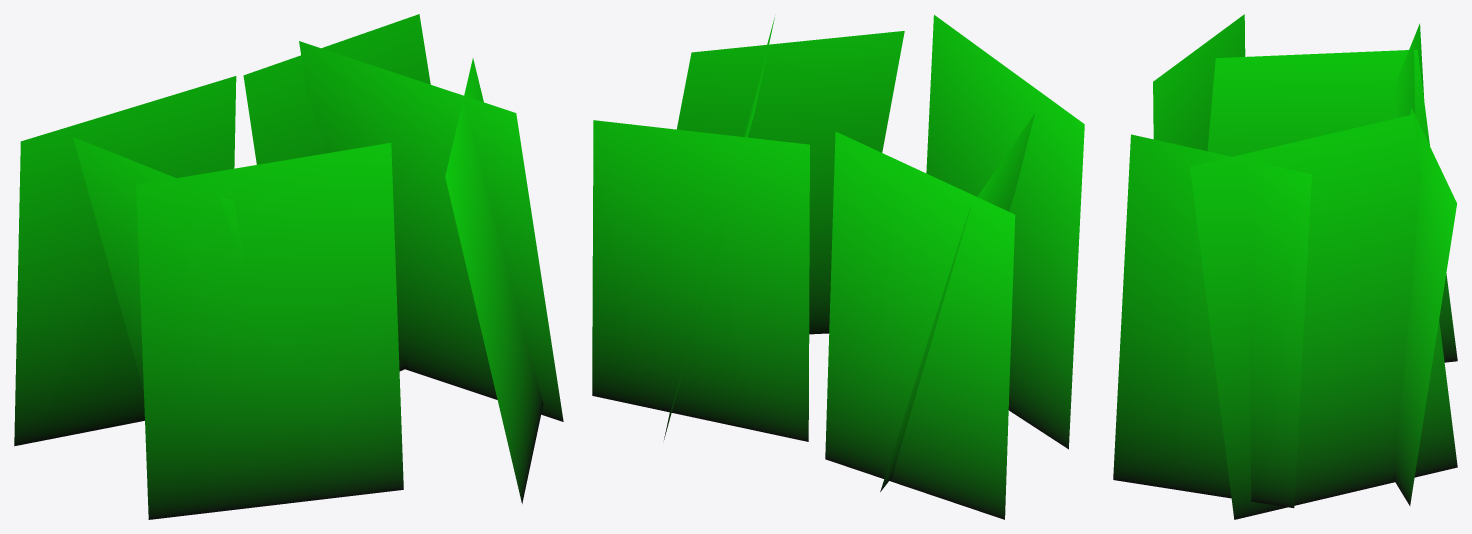
Rendered from SM_Dandilion.fbx.
3 views of the same model, side by side, from view 1: azimuth 30°, elevation 25°; view 2: azimuth 150°, elevation 25°; view 3: azimuth 270°, elevation 25° (orthographic). The views are drawn at different scales.
Parts seen in each view (by area): view 1: IL3DN_Plant_Grass_02_LOD0.001; view 2: IL3DN_Plant_Grass_02_LOD0.001; view 3: IL3DN_Plant_Grass_02_LOD0.001.
Boxes of the visible parts, x1,y1,x2,y2 form: IL3DN_Plant_Grass_02_LOD0.001: [14, 14, 563, 519]; IL3DN_Plant_Grass_02_LOD0.001: [592, 15, 1084, 519]; IL3DN_Plant_Grass_02_LOD0.001: [1113, 14, 1457, 519].
Size of the model in its own units: 0.8782 by 0.6078 by 0.6778.
